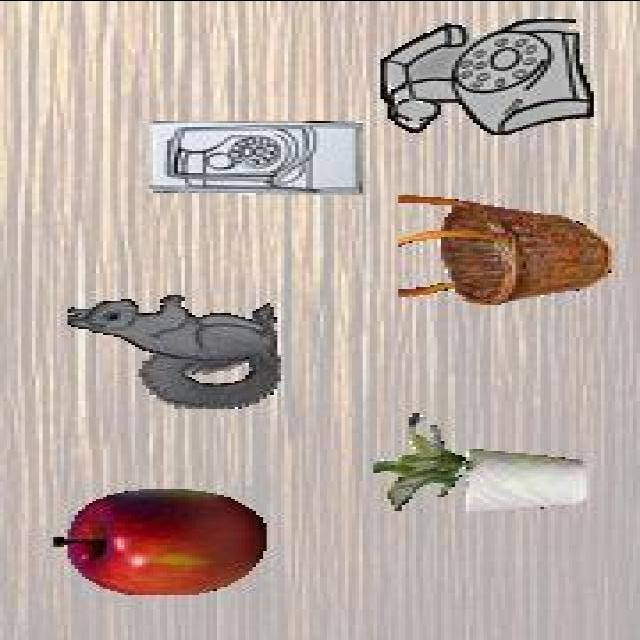Other Objects: (376, 16, 596, 136), (396, 193, 613, 304), (50, 486, 268, 596), (369, 410, 592, 512), (145, 119, 365, 194)
